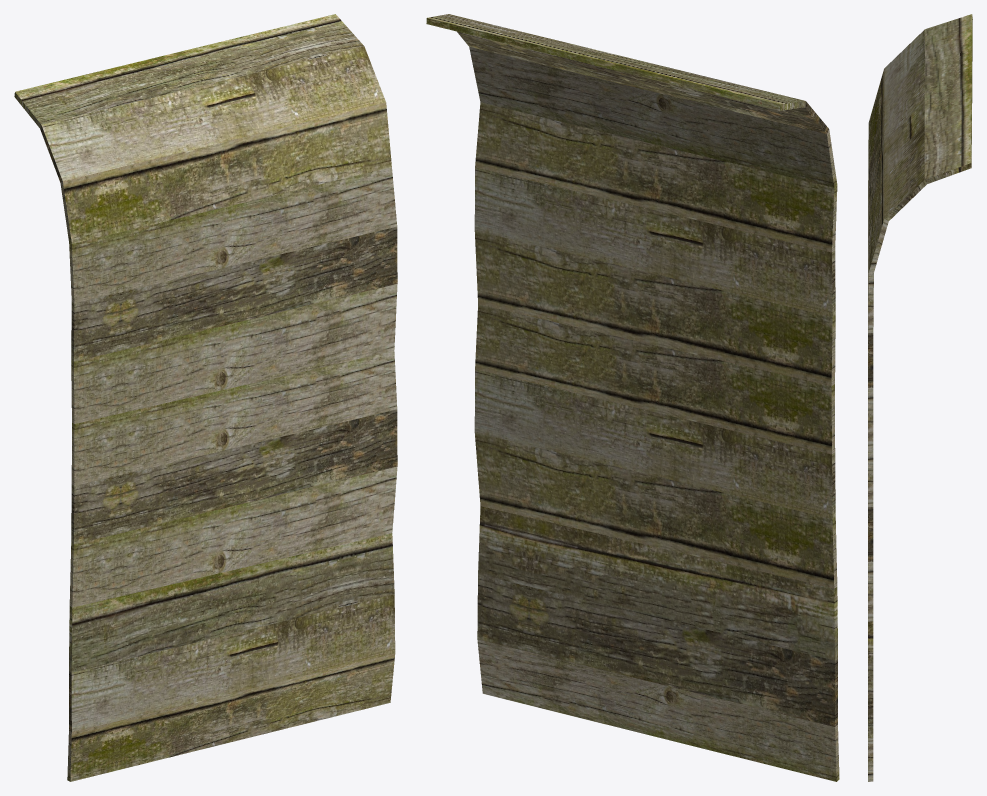
File: curver_ahead_colider.fbx
3 renders of one model, left to right at view 1: azimuth 30°, elevation 25°; view 2: azimuth 150°, elevation 25°; view 3: azimuth 270°, elevation 25°, orthographic. The views are drawn at different scales.
Visible parts, largest first — view 1: _13_1; view 2: _13_1; view 3: _13_1.
Part boxes in pixels (x1,y1,x2,y2): _13_1: [14, 14, 397, 781]; _13_1: [426, 14, 839, 781]; _13_1: [868, 14, 972, 781].
Bounding box in the file's own units: 205 × 388 × 59.32.
